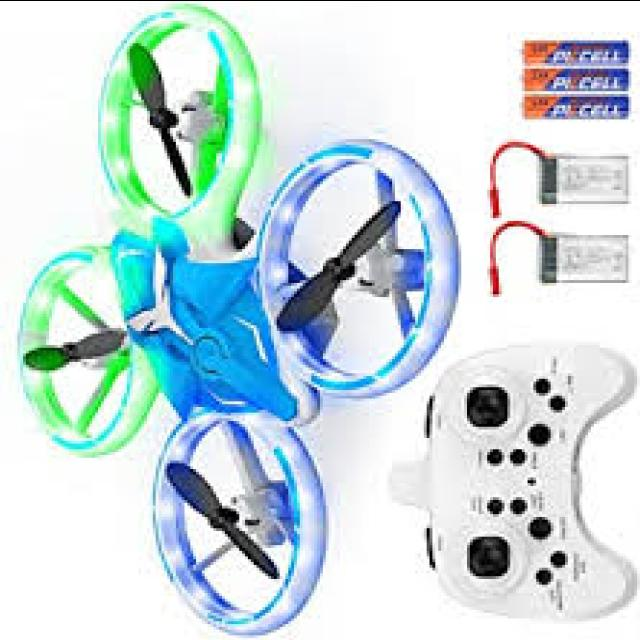drone: (7, 0, 469, 640)
